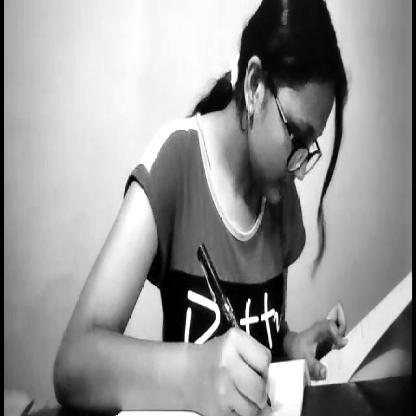Distracted: (238, 0, 350, 278)
